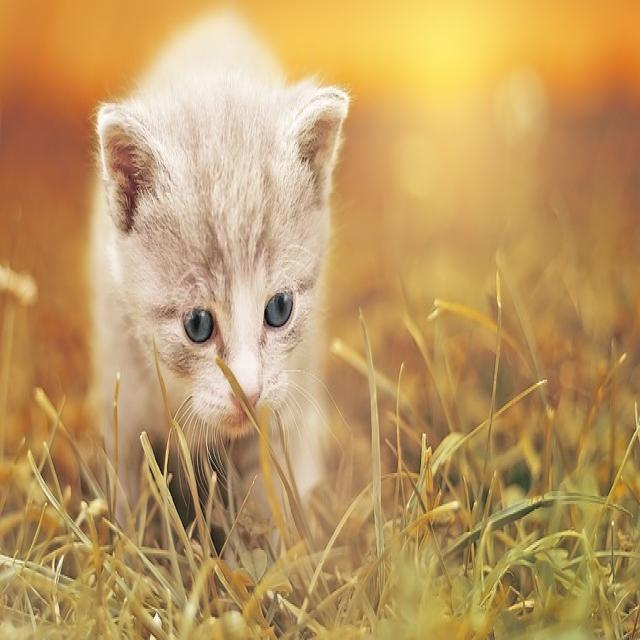animal: (52, 30, 355, 572)
